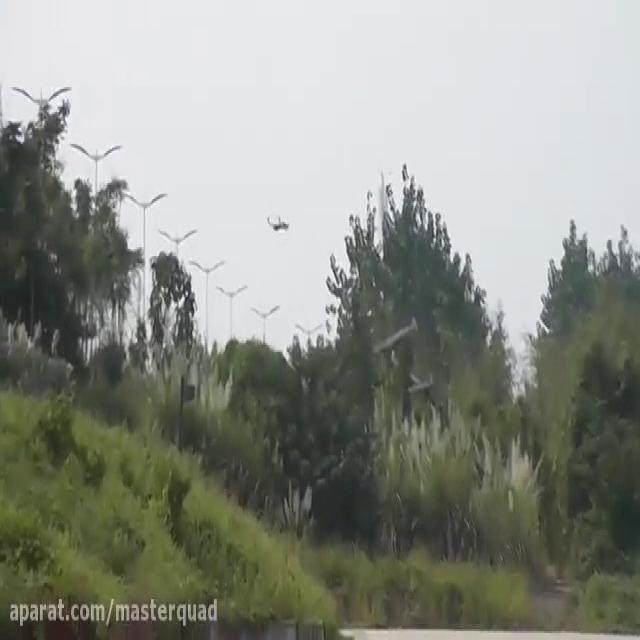drone: (265, 208, 291, 238)
